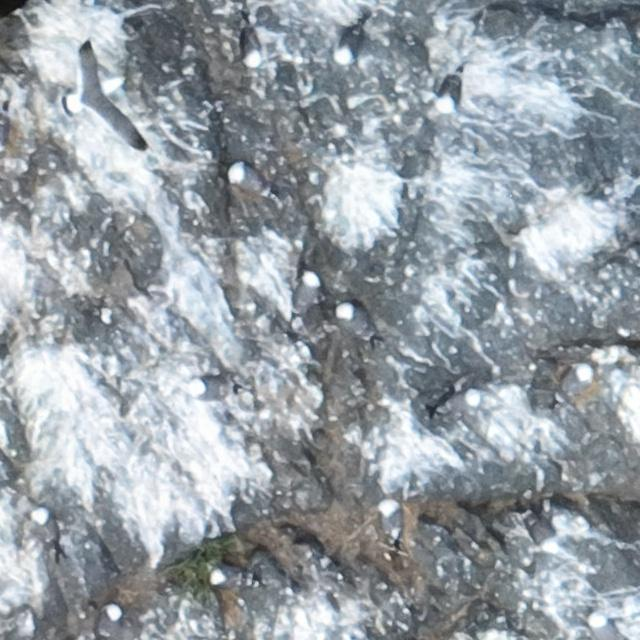F: (66, 44, 144, 143)
umineko: (430, 389, 485, 415), (334, 23, 366, 66), (338, 305, 377, 339), (560, 365, 592, 399), (294, 272, 318, 312), (229, 165, 264, 192), (240, 26, 261, 68), (189, 377, 233, 396), (380, 501, 400, 541), (97, 605, 120, 637), (439, 74, 458, 110), (35, 510, 57, 540), (211, 569, 244, 587)
